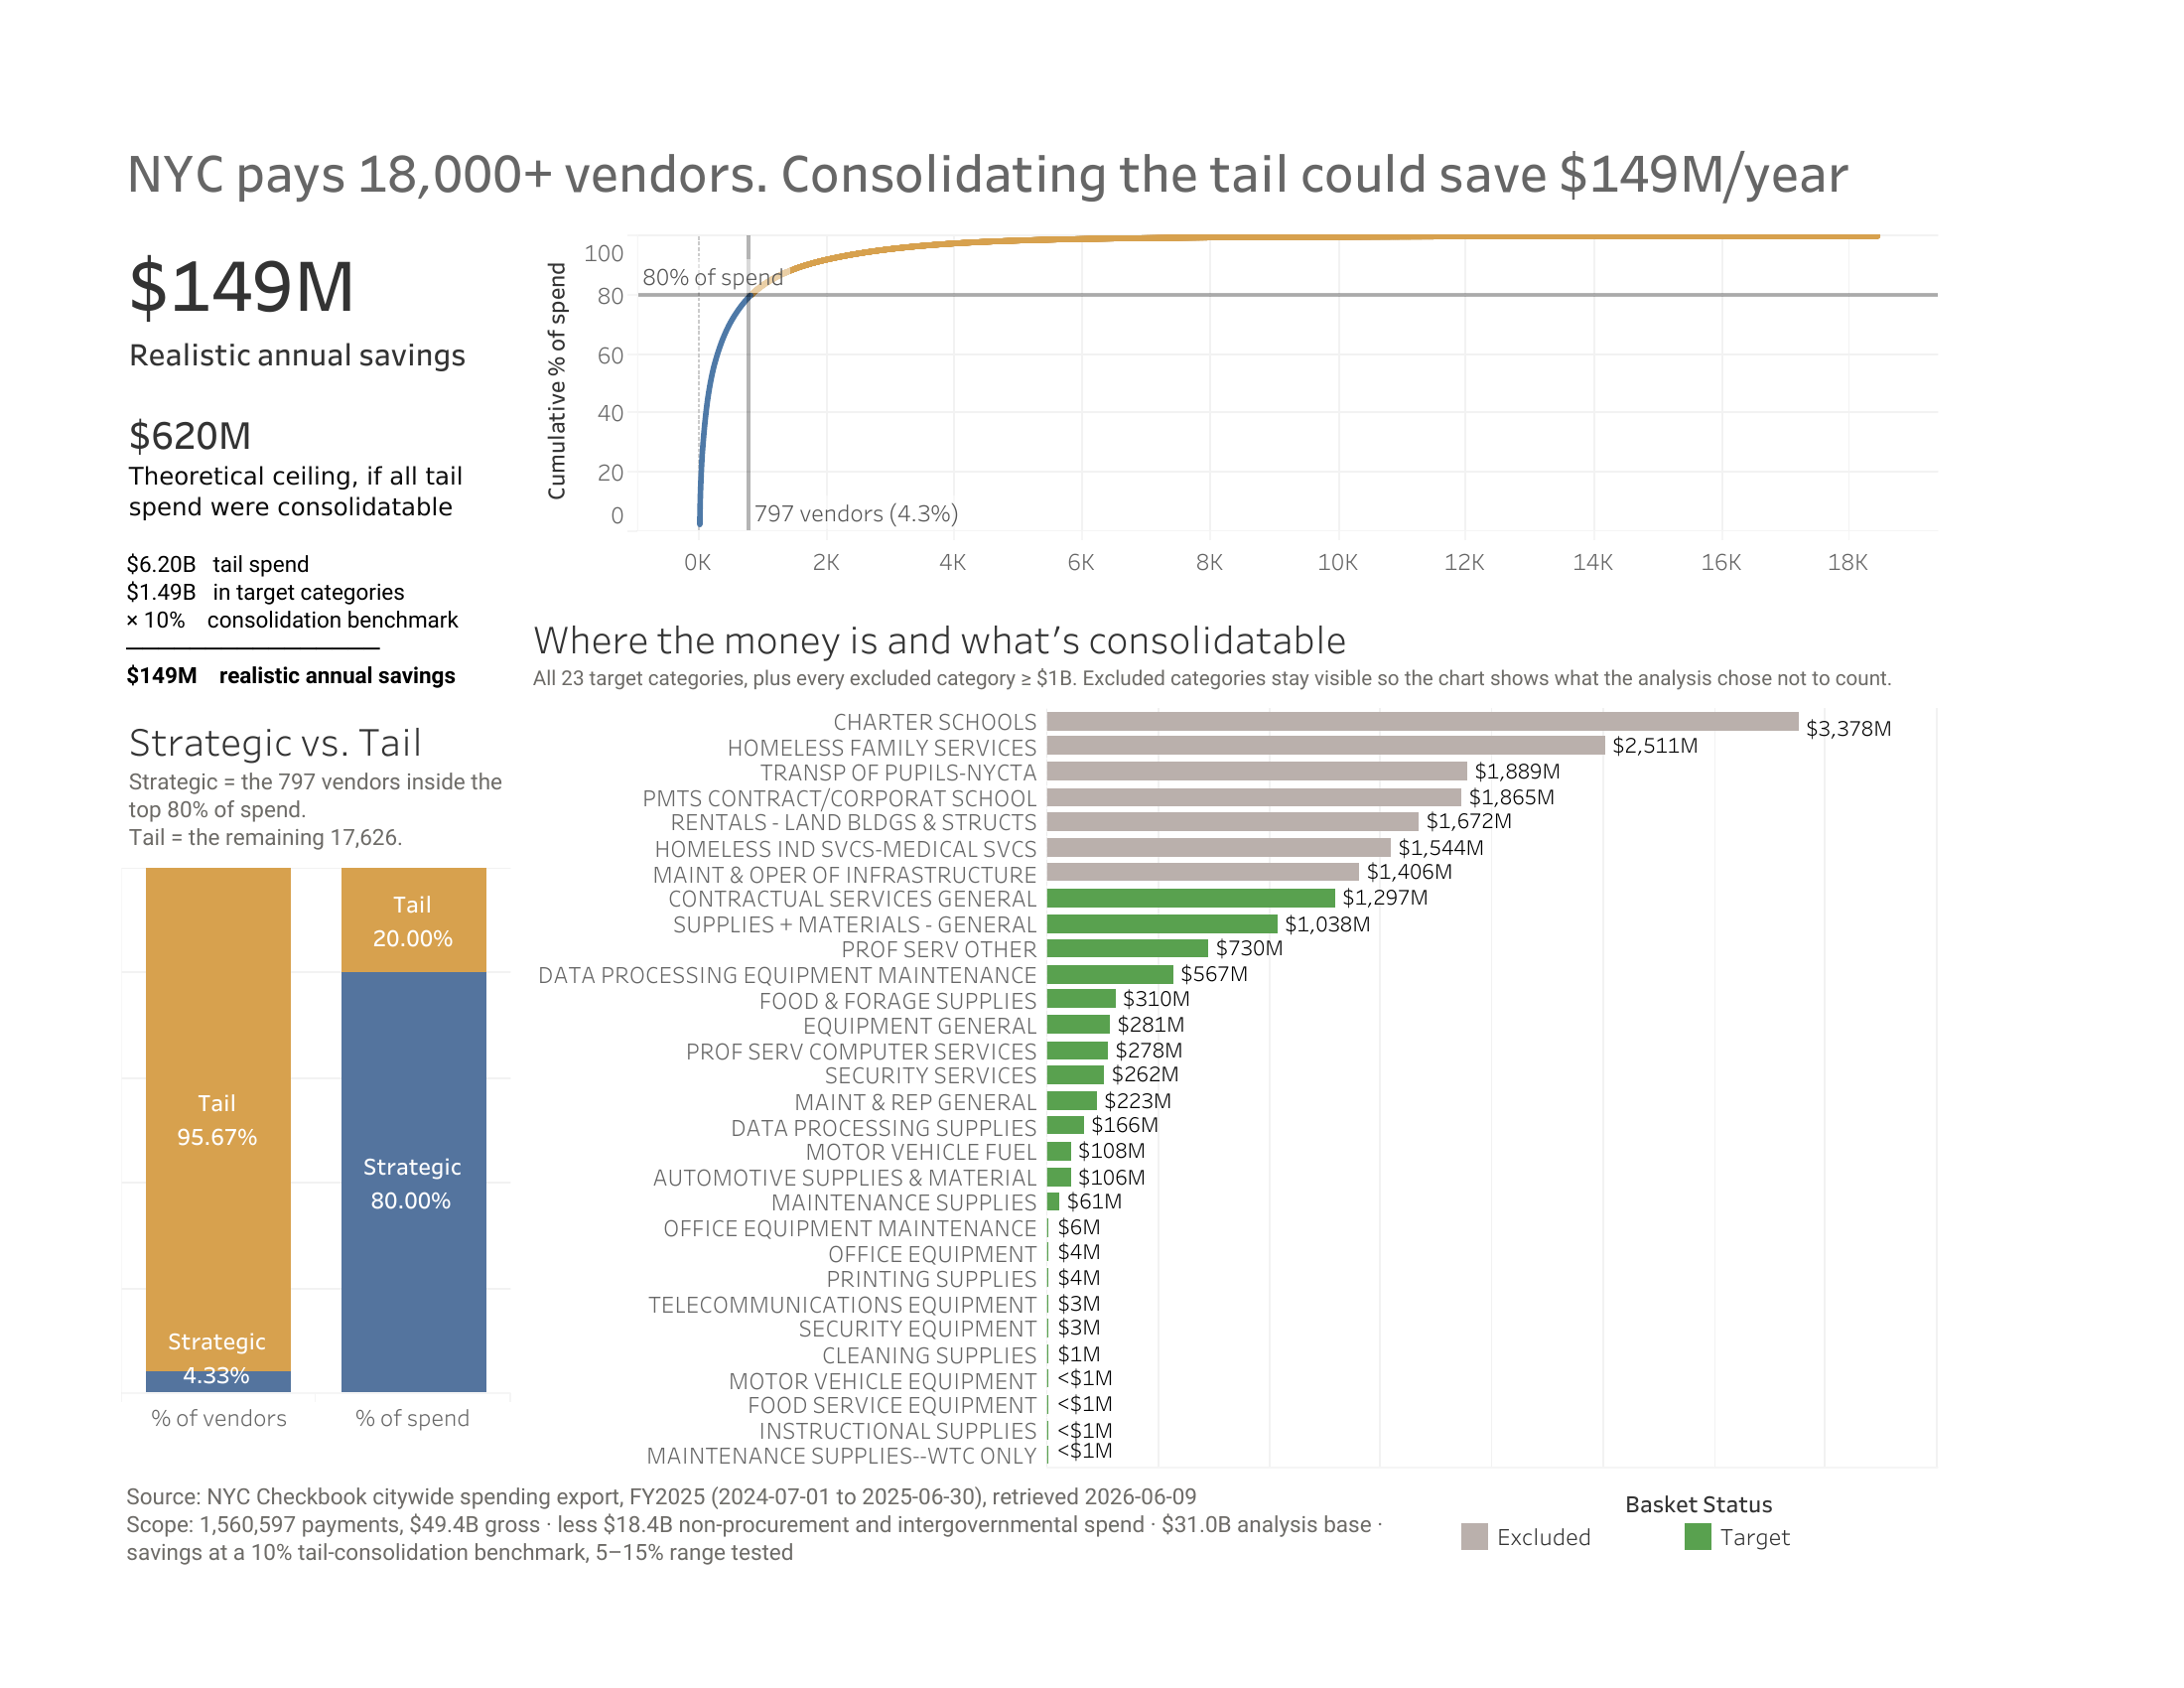

Layout of this report page (visuals, bound fields, positions):
{"tool":"tableau","page":{"name":"Dashboard 1","canvas":[1000,800],"ordinal":0},"visuals":[{"type":"text","box":[8,8,984,65]},{"type":"worksheet","title":"KPI- Realistic","mark":"Automatic","box":[8,73,264,107]},{"type":"worksheet","title":"Pareto Curve","mark":"Automatic","rows":["cumulative_pct_of_spend"],"cols":["spend_rank"],"box":[272,73,720,256]},{"type":"worksheet","title":"KPI - Ceiling","mark":"Automatic","box":[8,180,264,110]},{"type":"worksheet","title":"Strategic vs. Tail","mark":"Automatic","box":[8,290,264,502]},{"type":"worksheet","title":"What's consolidatable","mark":"Automatic","rows":["expense_category"],"cols":["category_spend"],"box":[272,329,632,463]},{"type":"legend","title":"What's consolidatable","param":"[federated.12qq1wb18y3tt2119m4r01ubob6j].[none:basket_status:nk]","box":[904,329,88,463]}]}

Visuals, with their boxes on the page's 1000x800 design canvas (x1, y1, x2, y2). These are canvas units, not pixel positions in the 2184x1688 screenshot, which may show the page scaled, cropped or inside an application window:
text: x1=8 y1=8 x2=992 y2=73
"KPI- Realistic" worksheet: x1=8 y1=73 x2=272 y2=180
"Pareto Curve" worksheet: x1=272 y1=73 x2=992 y2=329
"KPI - Ceiling" worksheet: x1=8 y1=180 x2=272 y2=290
"Strategic vs. Tail" worksheet: x1=8 y1=290 x2=272 y2=792
"What's consolidatable" worksheet: x1=272 y1=329 x2=904 y2=792
"What's consolidatable" legend: x1=904 y1=329 x2=992 y2=792
